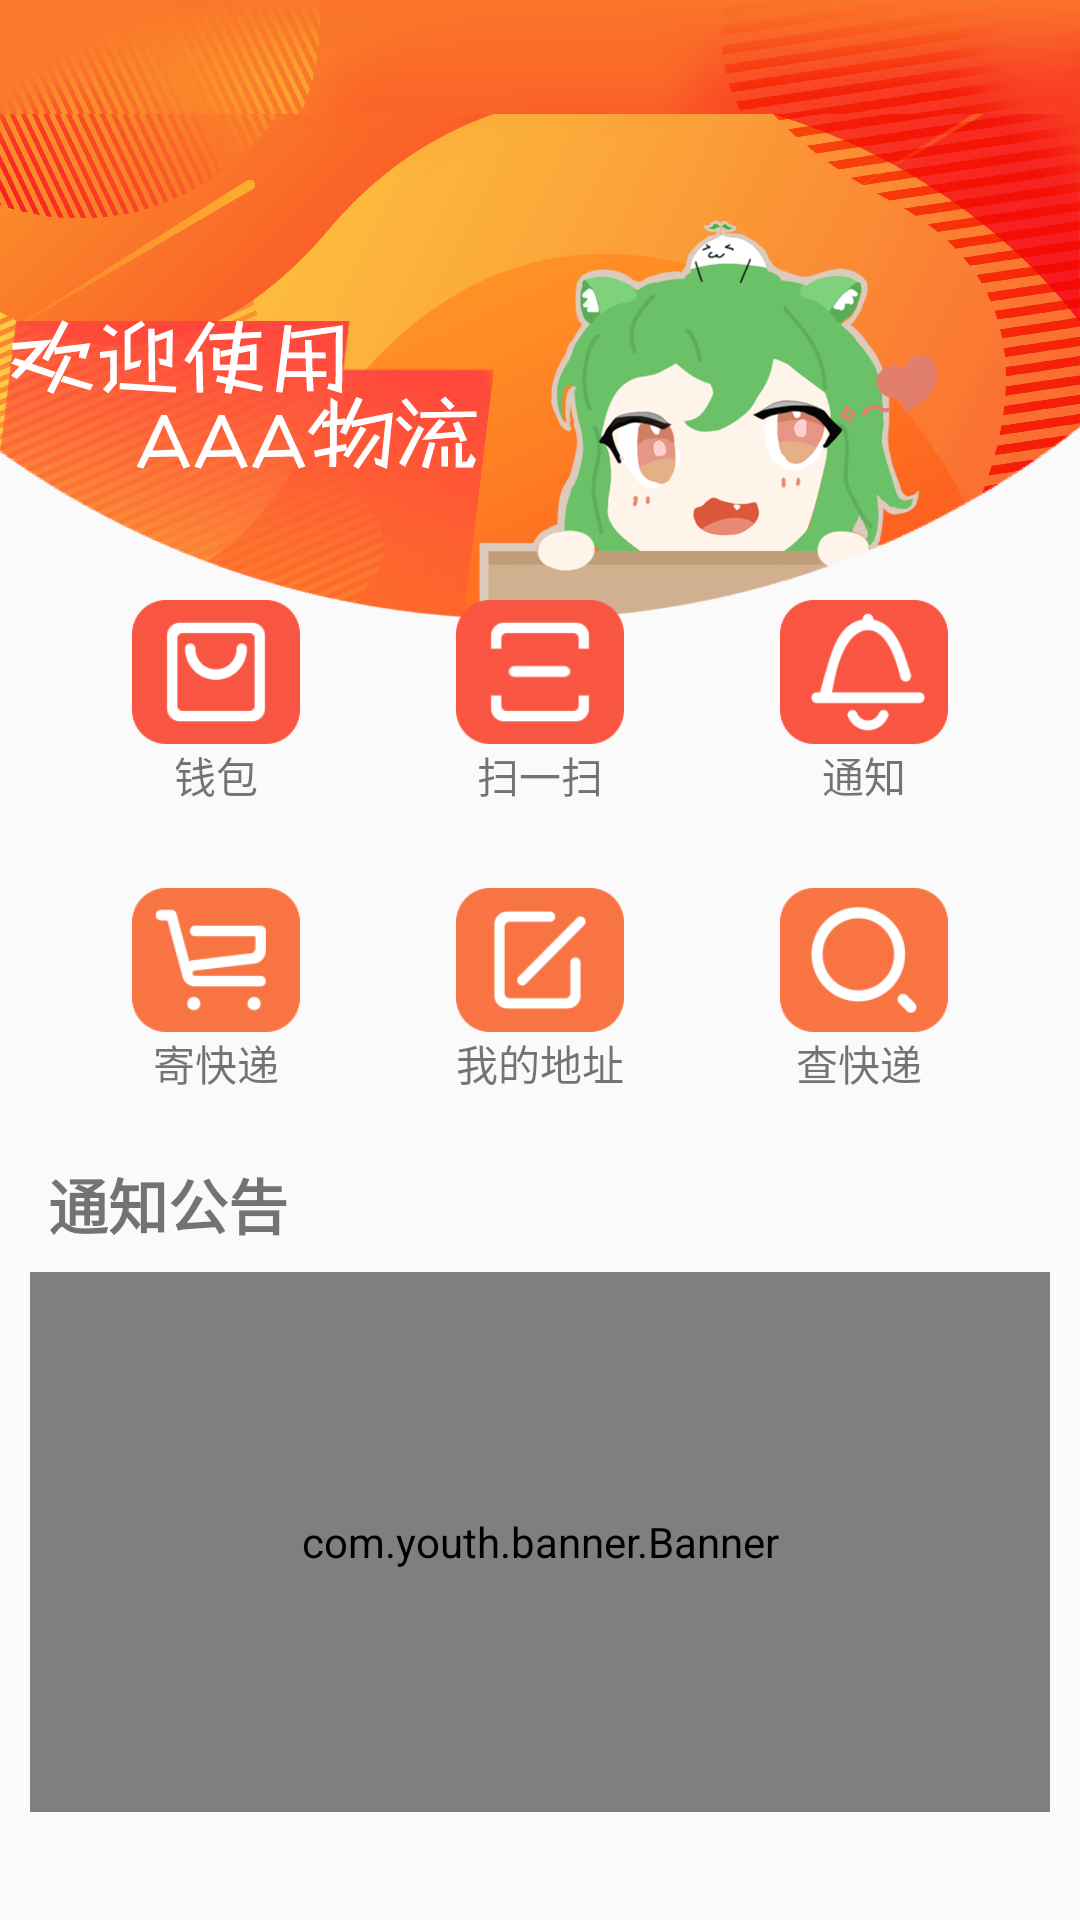

Screen size 1080x1920. Icon name, then its center in pixels as point (x, y):
place an order: point (216, 960)
